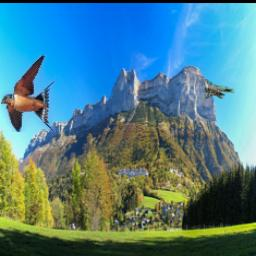Cuckoo: (204, 80, 234, 100)
Swallow: (1, 55, 56, 133)
